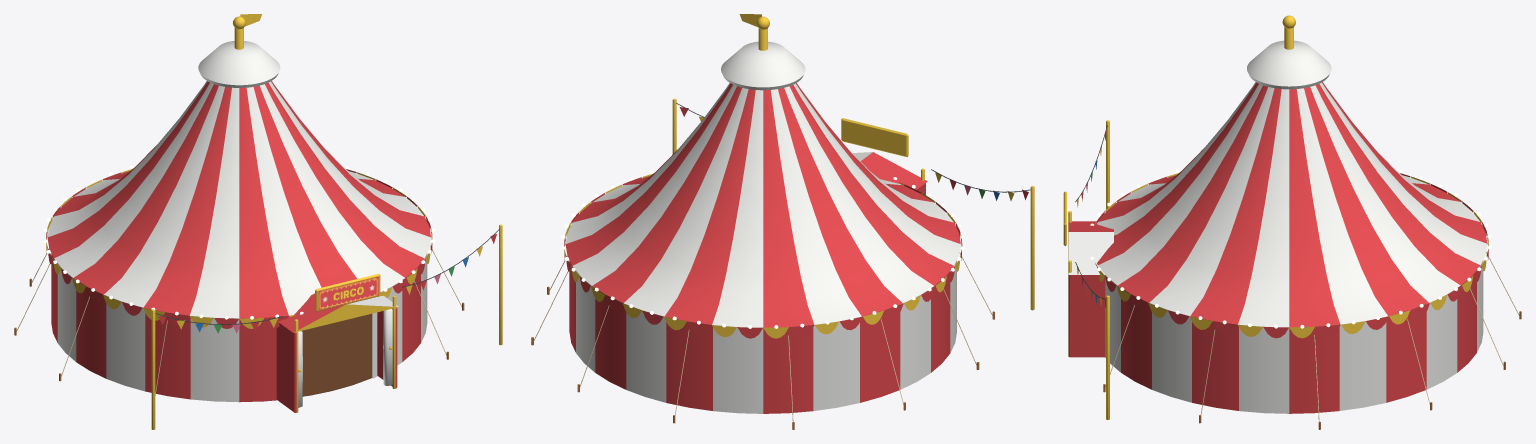
The model's file is tenda_circo_grande.glb.
The picture shows the model from 3 angles, left to right: view 1: azimuth 30°, elevation 25°; view 2: azimuth 150°, elevation 25°; view 3: azimuth 270°, elevation 25°; orthographic projection. The views are drawn at different scales.
Visible parts, largest first — view 1: tenda_circo_grande; view 2: tenda_circo_grande; view 3: tenda_circo_grande.
Part boxes in pixels (x1=…): tenda_circo_grande: x1=14, y1=16, x2=502, y2=429; tenda_circo_grande: x1=531, y1=16, x2=1034, y2=429; tenda_circo_grande: x1=1063, y1=15, x2=1521, y2=429.
Size of the model in its own units: 14.35 by 10.85 by 14.16.
Materials: 3 (2 with a texture image).
